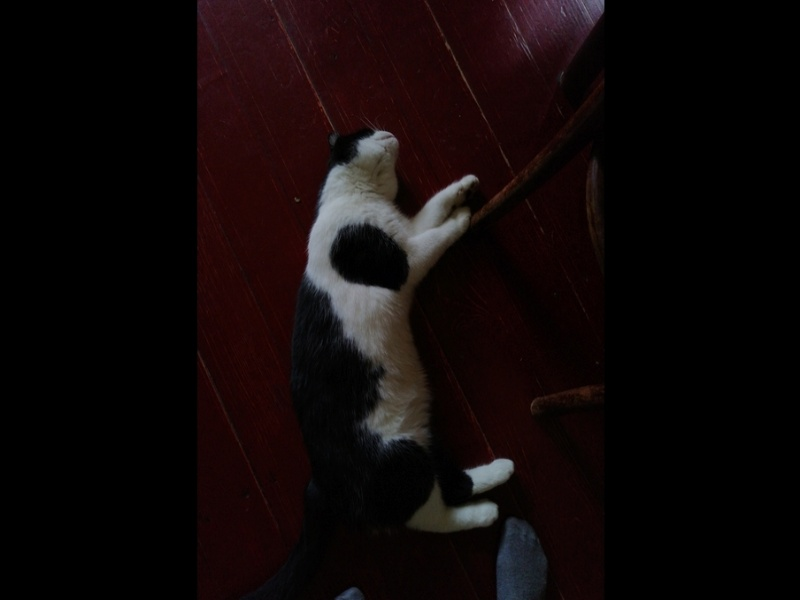cat: (283, 123, 518, 533)
